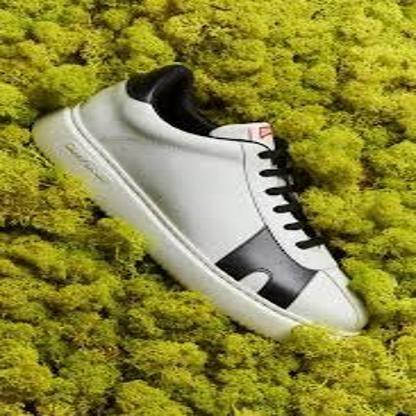not trash: (31, 65, 367, 346)
